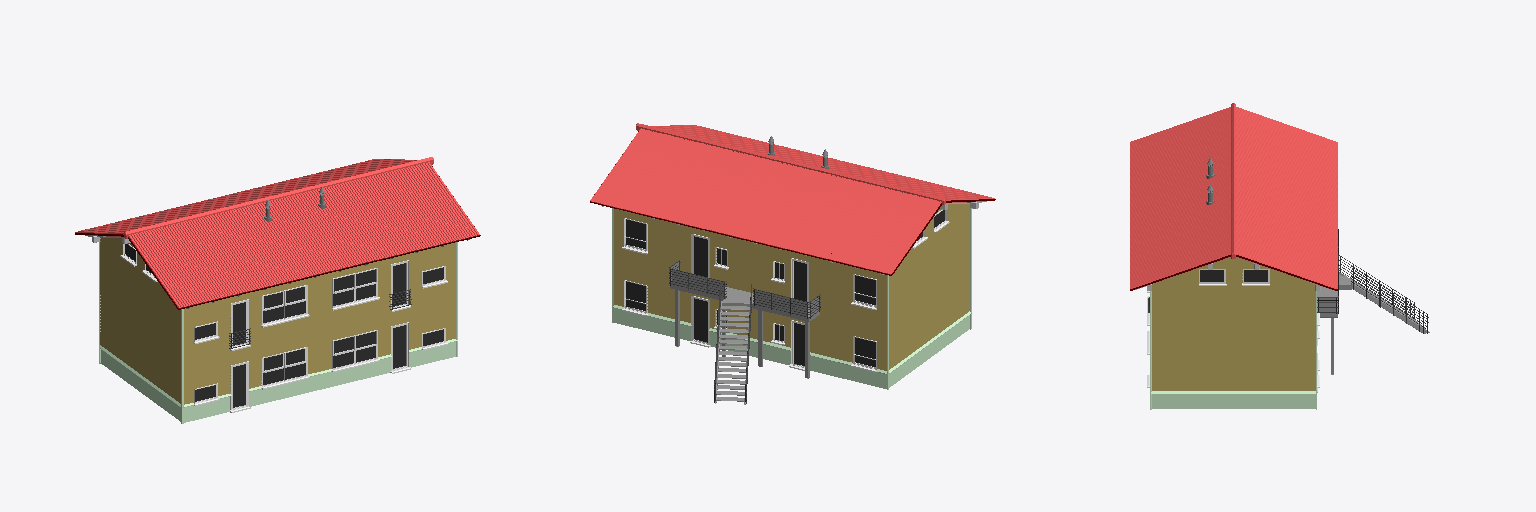
The model's file is apartment-house.obj.
3 renders of one model, left to right at view 1: azimuth 30°, elevation 25°; view 2: azimuth 150°, elevation 25°; view 3: azimuth 270°, elevation 25°, orthographic.
Visible parts, largest first — view 1: Apartment_House; view 2: Apartment_House; view 3: Apartment_House.
Part boxes in pixels (bbox=[...]): Apartment_House: bbox=[75, 157, 480, 423]; Apartment_House: bbox=[590, 123, 995, 404]; Apartment_House: bbox=[1130, 103, 1429, 409].
Size of the model in its own units: 517 by 280 by 436.